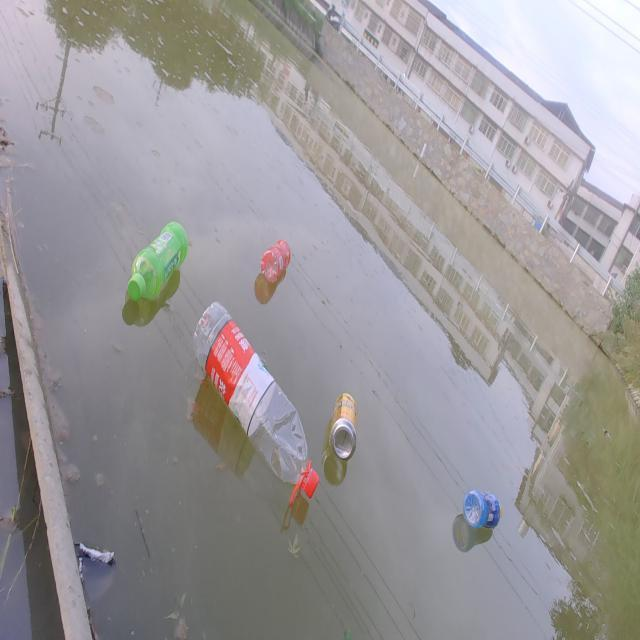bottle: (187, 299, 328, 509), (112, 203, 200, 317), (454, 487, 512, 533)
